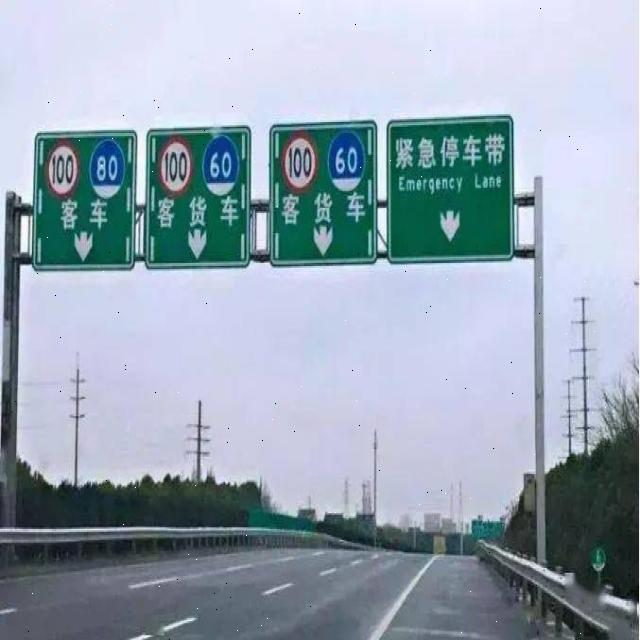speed limit 100: (280, 130, 319, 196), (158, 135, 193, 198), (45, 138, 79, 200)
speed limit 60: (328, 131, 367, 195), (201, 134, 241, 196)
speed limit 80: (88, 138, 125, 199)
